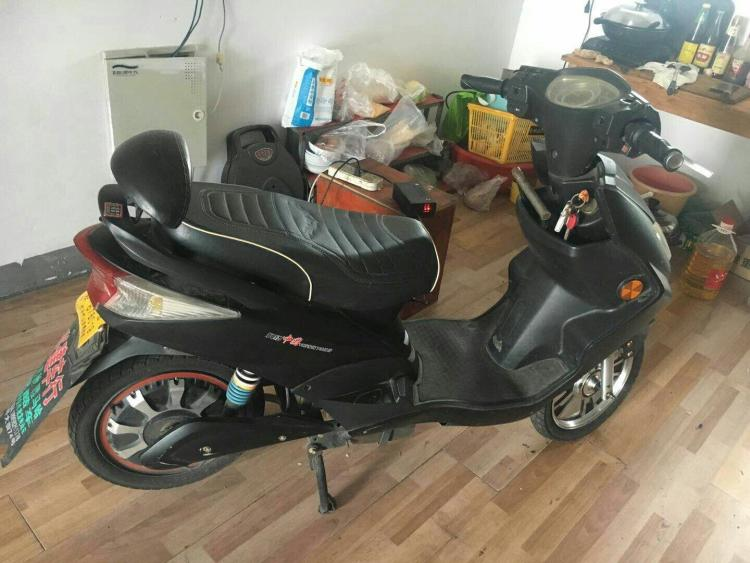电动车: (42, 51, 705, 529)
